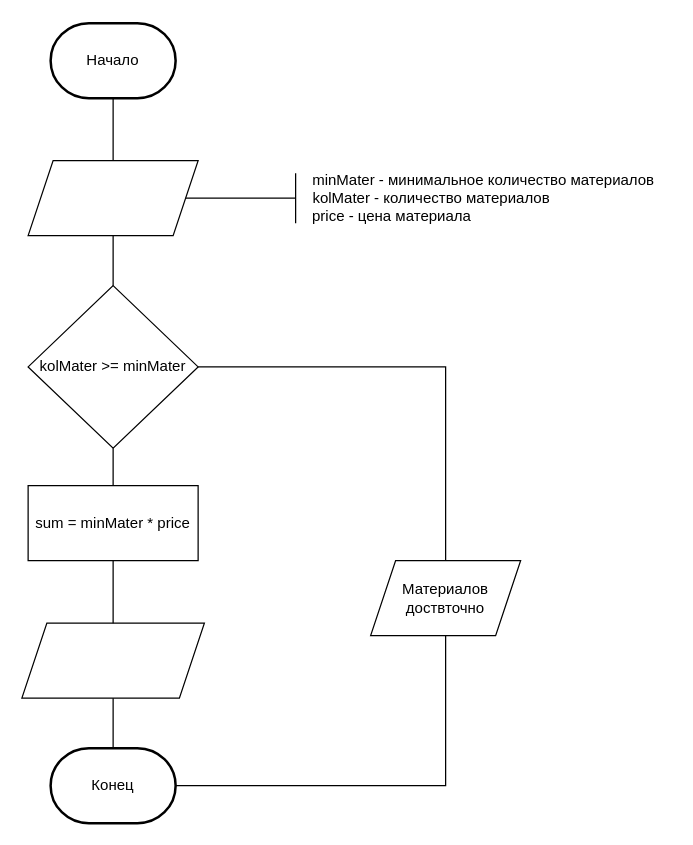
Some shapes in this 693 by 845 pixel diagram are drawn without their labels. Here are the shapes that lost their labels. From the top down, the box of each, then its label:
(27, 159, 198, 236): minMater, kolMater, price
(21, 622, 204, 698): sum
